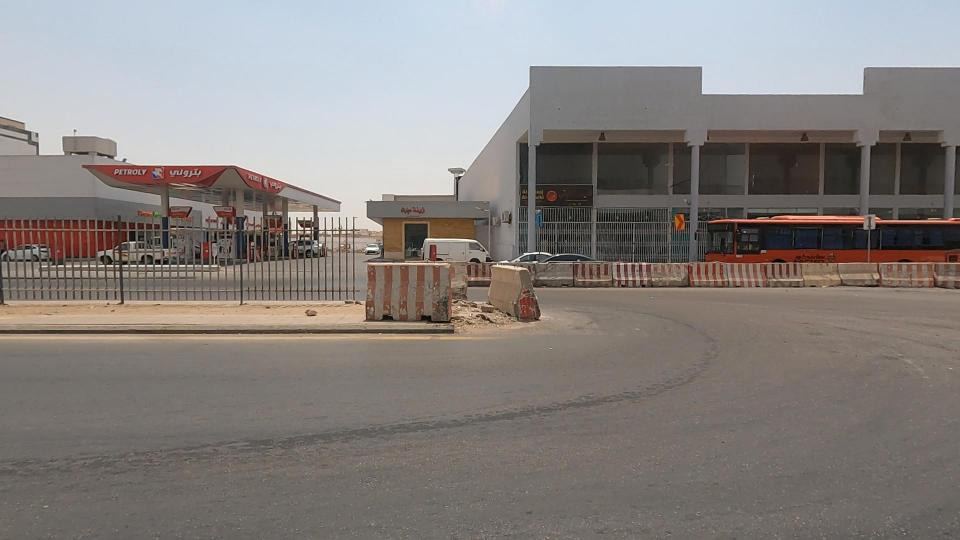CONSTRUCTION_ROAD: (276, 216, 654, 370), (487, 195, 784, 327), (688, 231, 952, 307)
